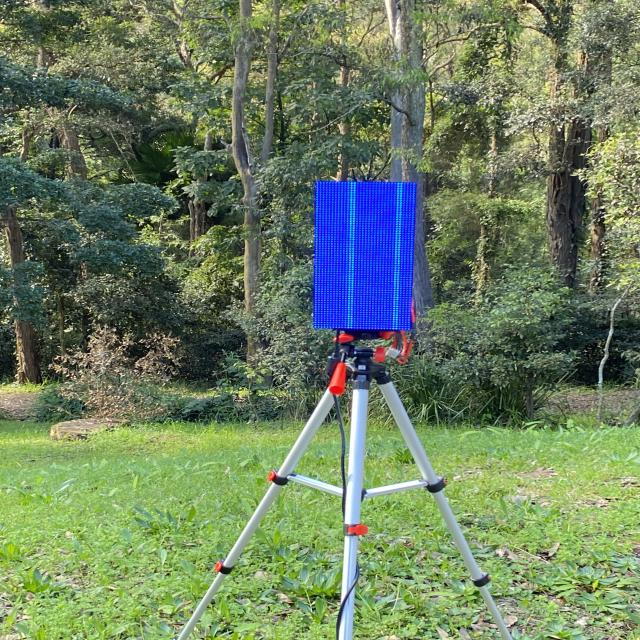matrix: (307, 174, 421, 334)
